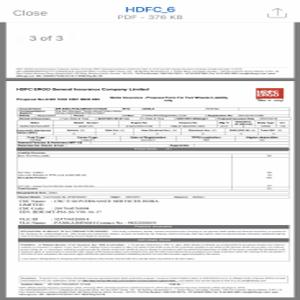image: (254, 86, 286, 101)
table: (17, 150, 290, 198), (16, 106, 290, 145)
text: (16, 198, 161, 224)
